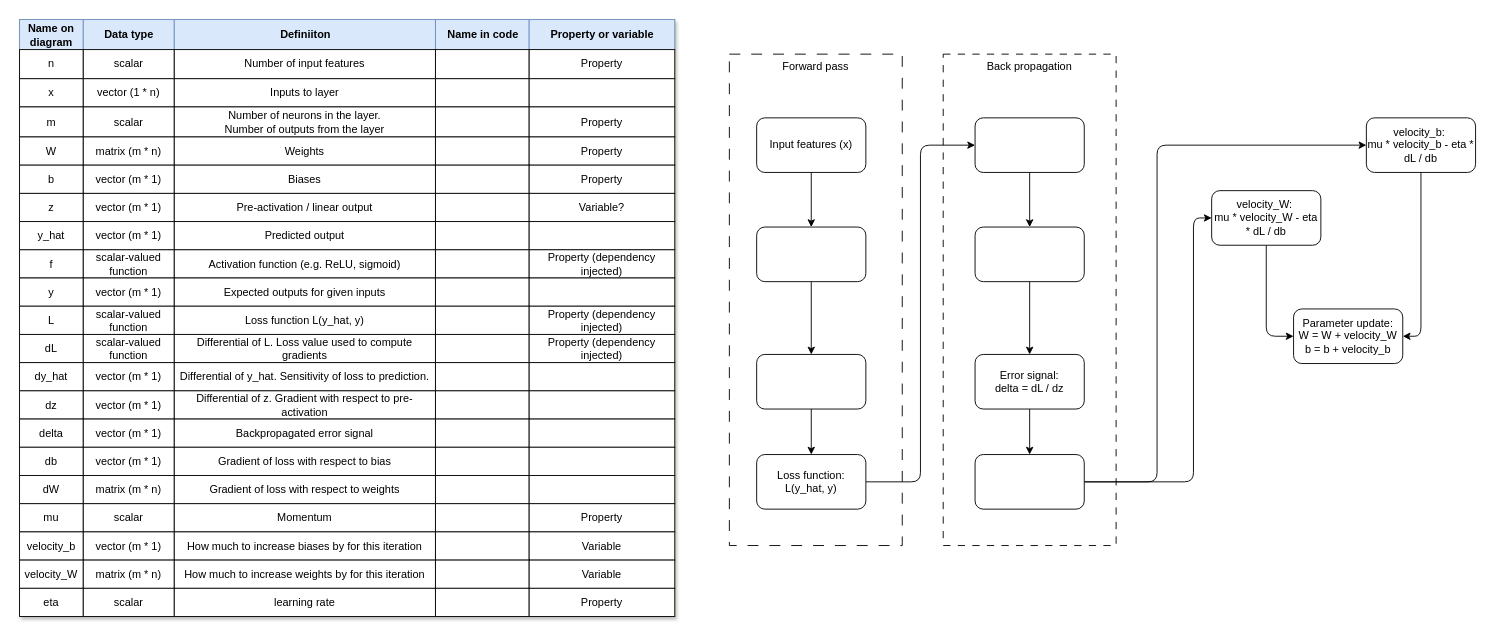
The diagram is 1491 pixels wide and 639 high, and some of its shapes have lost their labels. The shapes that lost their labels are listed below. From the top down, each one's centre as x and y in pixels, then its label:
At (x=1029, y=144): "Loss gradient: dL / dy_hat".
At (x=811, y=254): "Linear transform: z = W * x + b".
At (x=1029, y=254): "Activation derivative: dy_hat / dz".
At (x=811, y=381): "Activation layer: y_hat = f(z)".
At (x=1029, y=481): "Gradients: dL / dW, dL / db".
